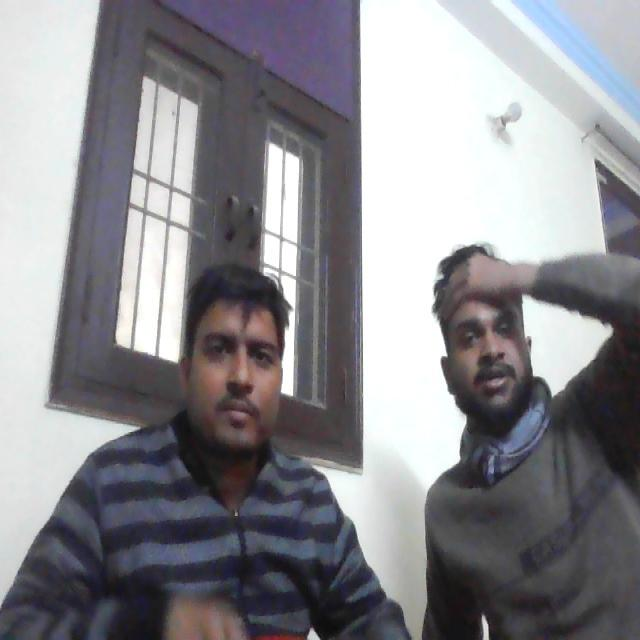real: (177, 244, 292, 461)
